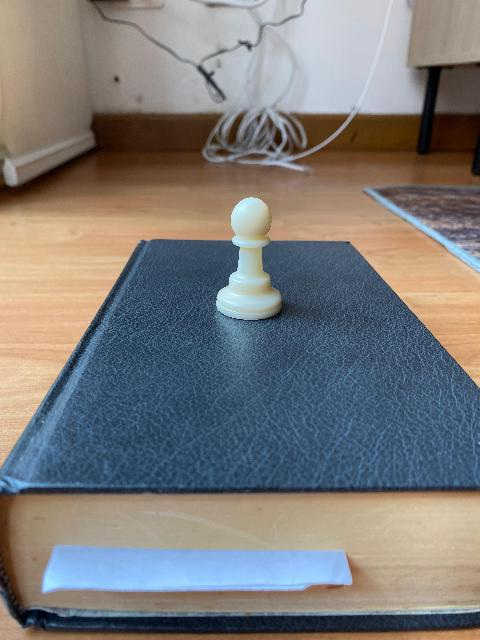white-pawn: (216, 196, 284, 320)
